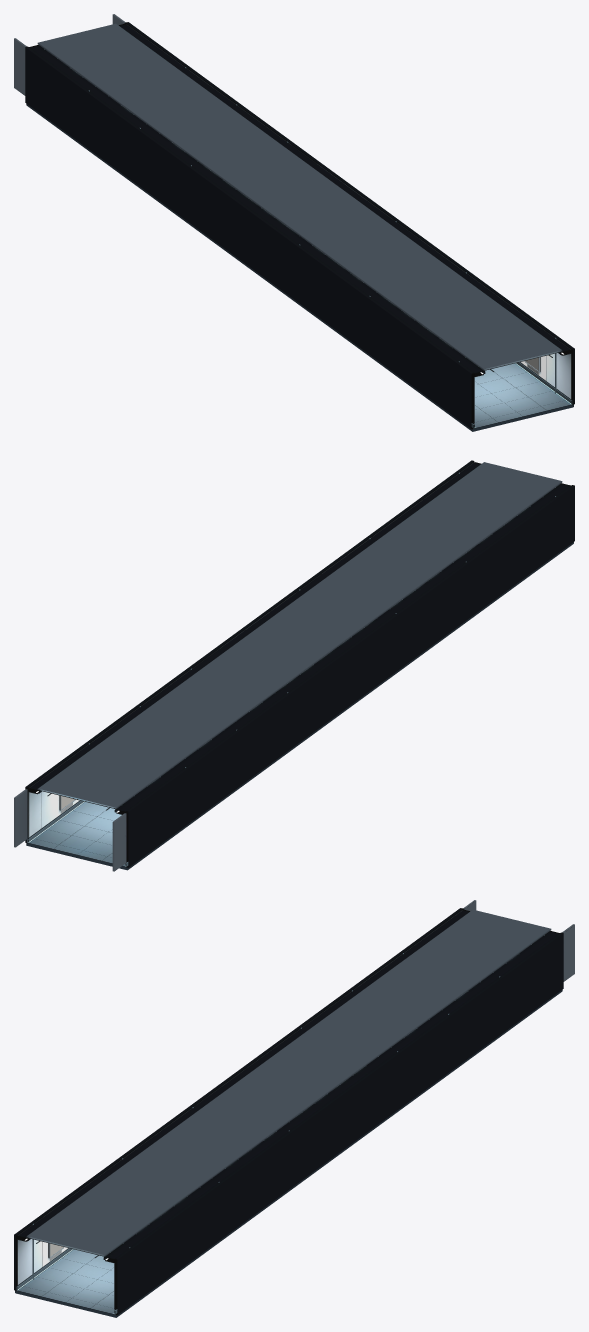
File: memory-gallery.glb
3 views of the same model, one above another, from view 1: azimuth 30°, elevation 25°; view 2: azimuth 150°, elevation 25°; view 3: azimuth 330°, elevation 25° (orthographic).
Visible parts, largest first — view 1: Gallery architecture; view 2: Gallery architecture; view 3: Gallery architecture.
Boxes of the visible parts, <box> form: Gallery architecture: <box>14,14,574,431</box>; Gallery architecture: <box>14,460,574,871</box>; Gallery architecture: <box>14,900,574,1317</box>.
Size of the model in its own units: 9.35 by 5.19 by 71.98.
8 materials, 1 textured.
